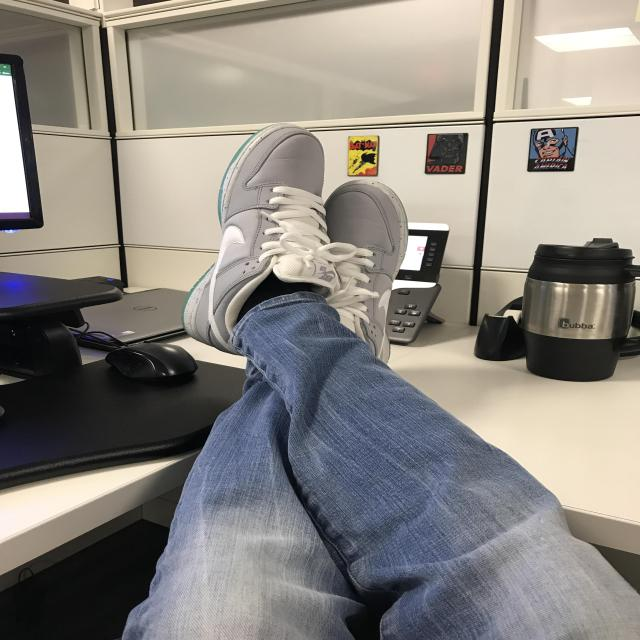shoes: (167, 114, 346, 369), (323, 176, 412, 370)
